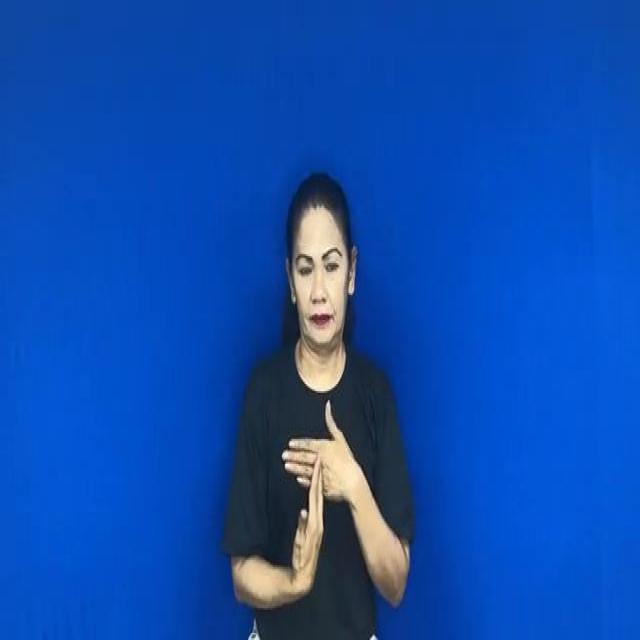bread: (279, 397, 359, 596)
